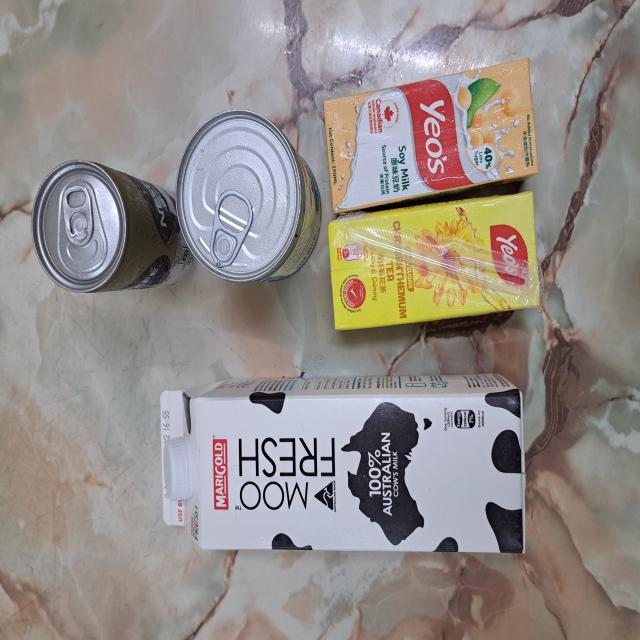can: (178, 108, 319, 288), (32, 158, 192, 294)
drink carton: (158, 375, 527, 553), (326, 54, 539, 212), (328, 189, 544, 332)
plastic bottle cap: (161, 432, 195, 502)
pop tab: (208, 189, 253, 267), (62, 186, 94, 244)
